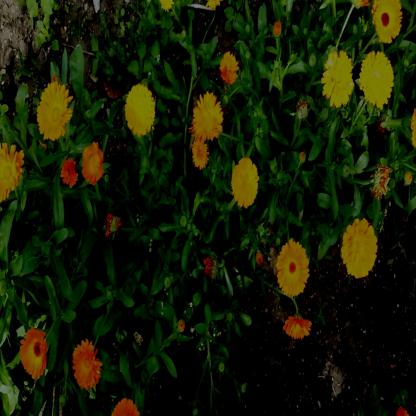marigold: (344, 219, 376, 278), (37, 82, 70, 138), (359, 52, 392, 106), (324, 48, 354, 106), (279, 243, 308, 294), (192, 92, 222, 140), (372, 0, 404, 44), (126, 84, 154, 133), (78, 138, 105, 188), (0, 141, 22, 201), (70, 340, 99, 384), (233, 158, 258, 206), (22, 329, 46, 377), (57, 146, 81, 192), (283, 308, 311, 343), (219, 53, 239, 81), (193, 134, 209, 168)
